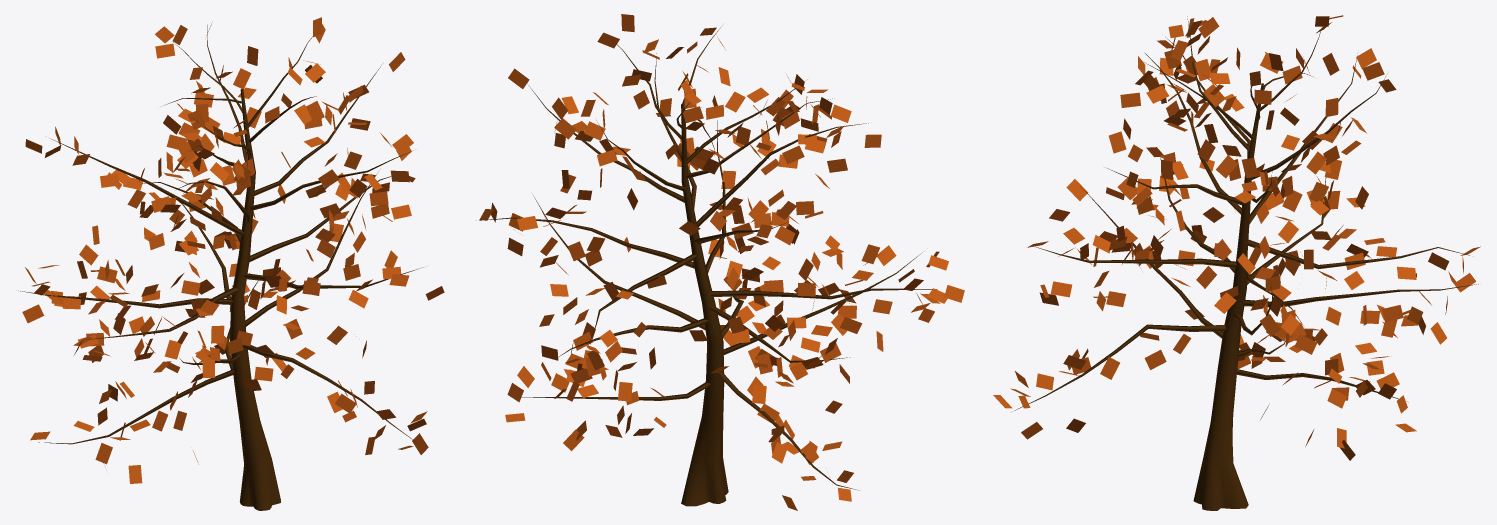
Rendered from Tree.FBX.
3 renders of one model, left to right at view 1: azimuth 30°, elevation 25°; view 2: azimuth 150°, elevation 25°; view 3: azimuth 270°, elevation 25°, orthographic. The views are drawn at different scales.
Parts seen in each view (by area): view 1: Foliage001; view 2: Foliage001; view 3: Foliage001.
Part boxes in pixels (<box>): Foliage001: <box>18,17,444,510</box>; Foliage001: <box>476,14,964,510</box>; Foliage001: <box>993,15,1480,510</box>.
Size of the model in its own units: 77.56 by 84.2 by 76.72.
